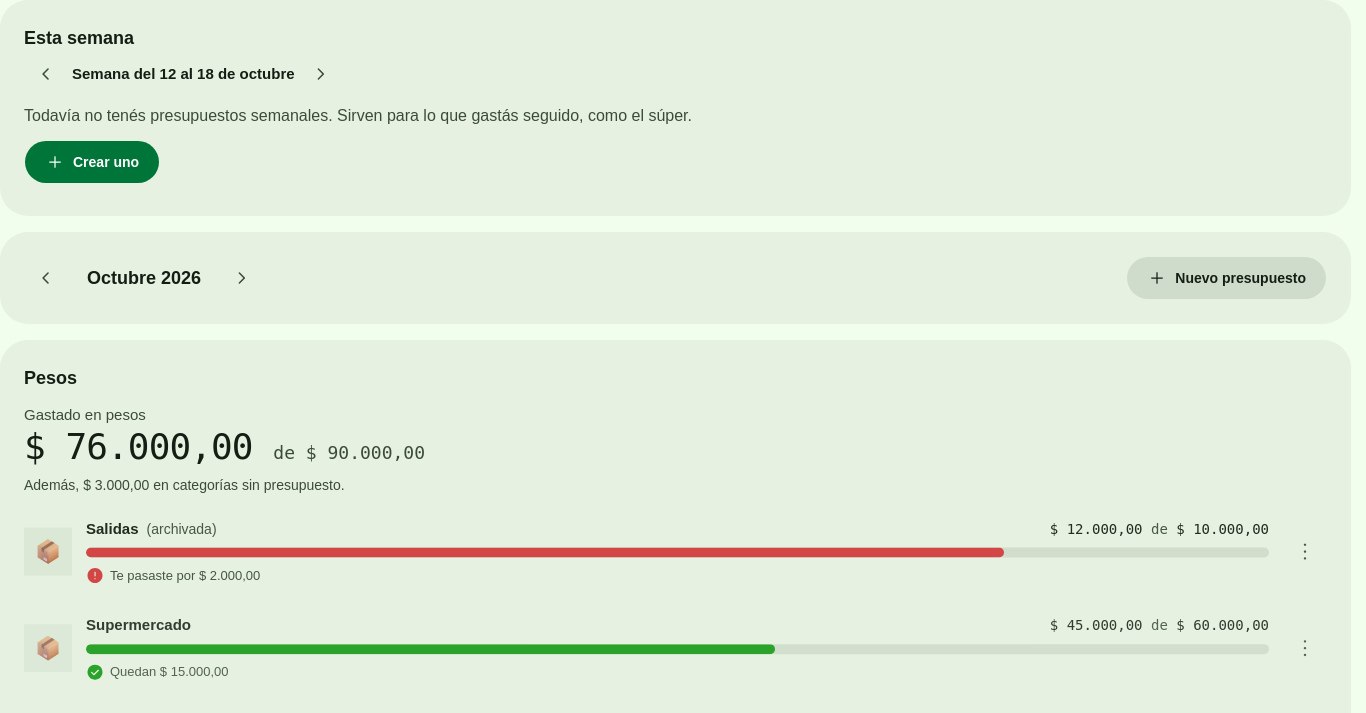
BudgetsPage › moves between months and keeps the month in the URL
Click the button named "Mes anterior": point(46, 278) [24, 256, 68, 300]
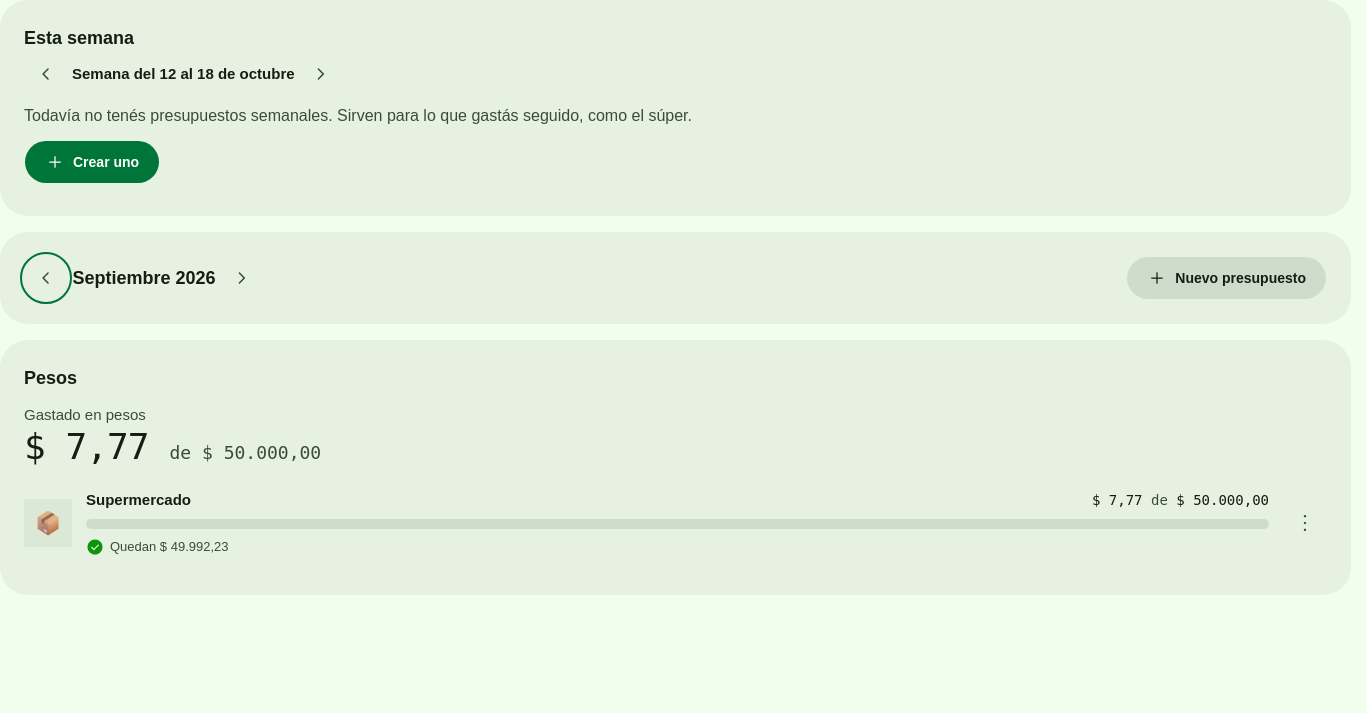
Check: the heading "Septiembre 2026" is shown, box [72, 264, 216, 292]
Check: the list item shows "$ 7,77 de $ 50.000,00", box [12, 474, 1339, 570]
